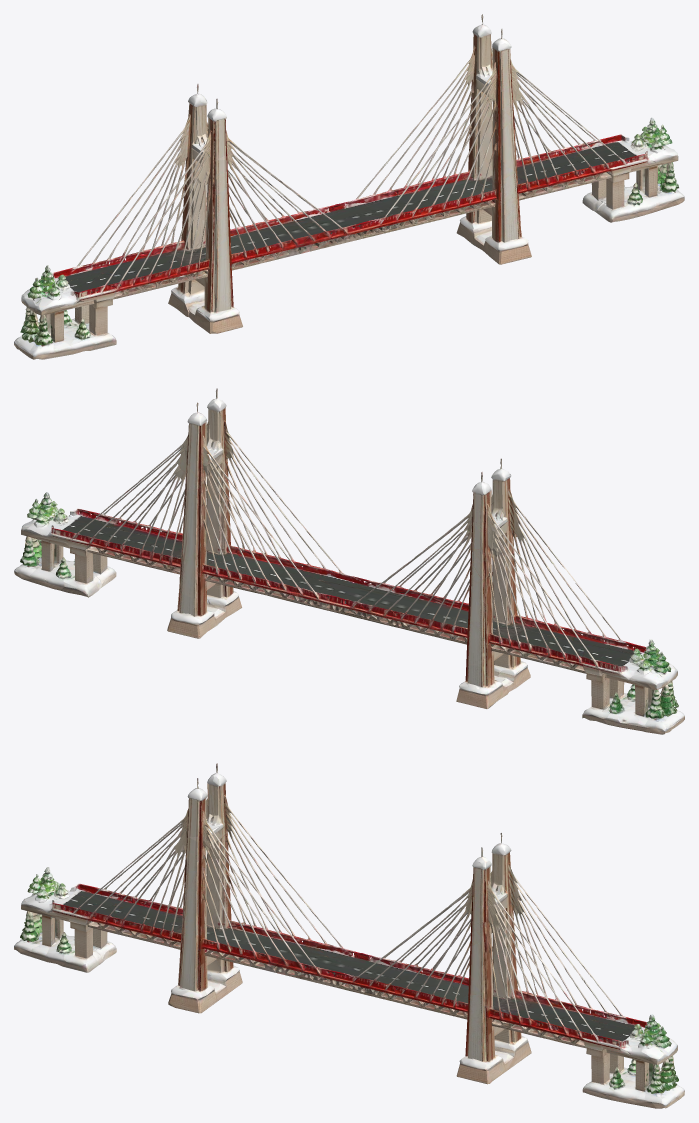
Rendered from bridge.glb.
3 views of the same model, one above another, from view 1: azimuth 30°, elevation 25°; view 2: azimuth 150°, elevation 25°; view 3: azimuth 330°, elevation 25° (orthographic).
Size of the model in its own units: 1.9 by 0.6235 by 0.22.
1 material, 1 textured.
